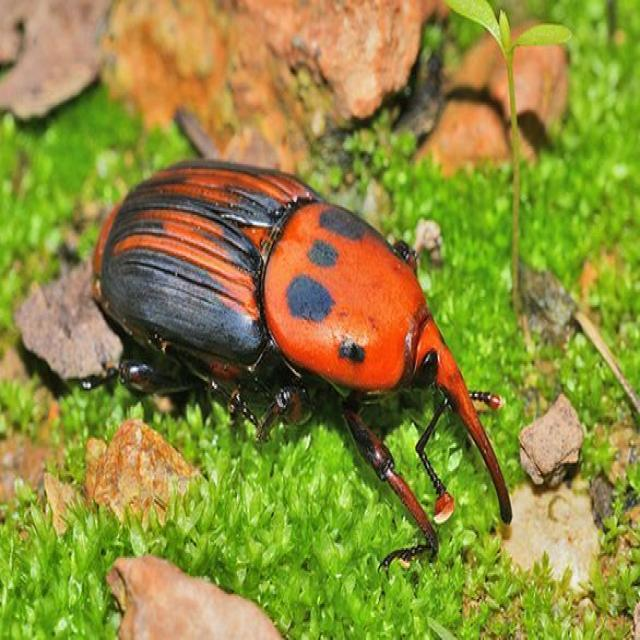Red-palm-weevil: (83, 166, 511, 528)
